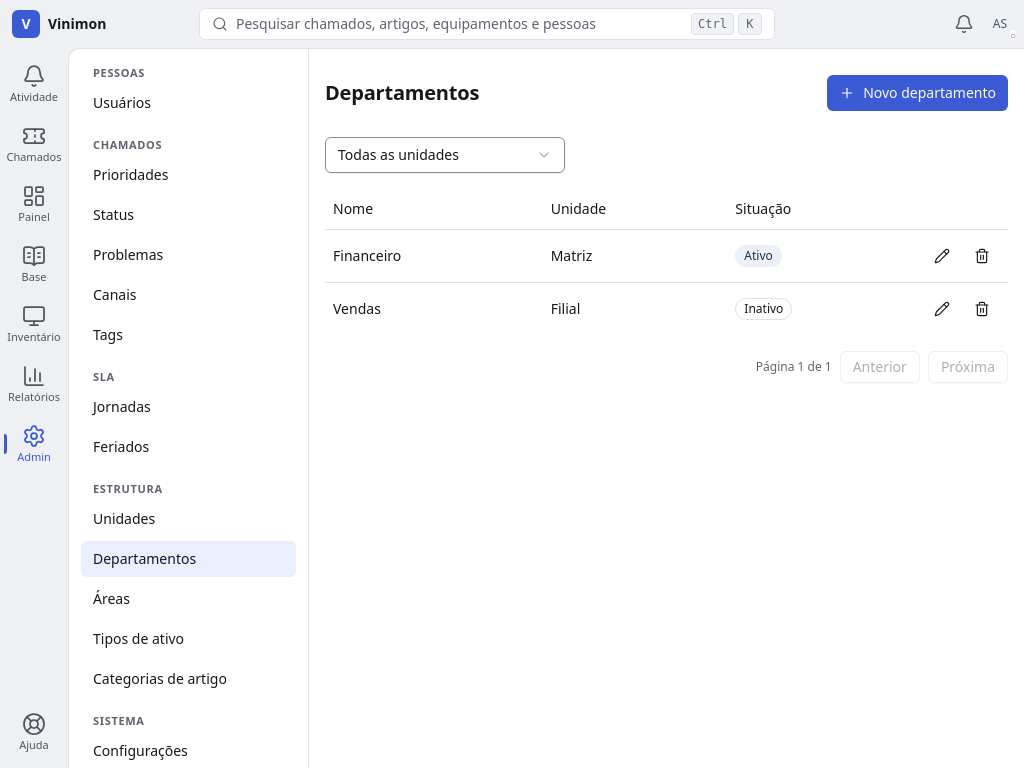
it: /admin/departamentos › excluir confirma e faz DELETE /departamentos/1
Click the button named "Excluir Financeiro": [982, 256] box x1=964 y1=238 x2=1000 y2=274
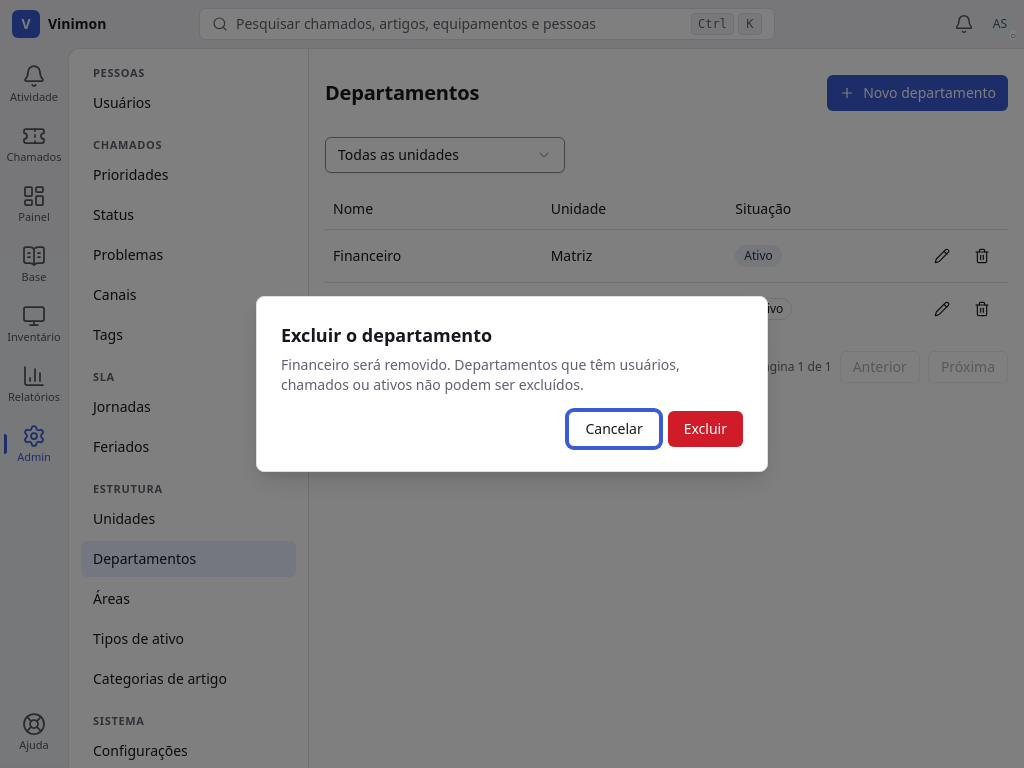
Click the button "Excluir": [705, 429] box x1=668 y1=411 x2=743 y2=447
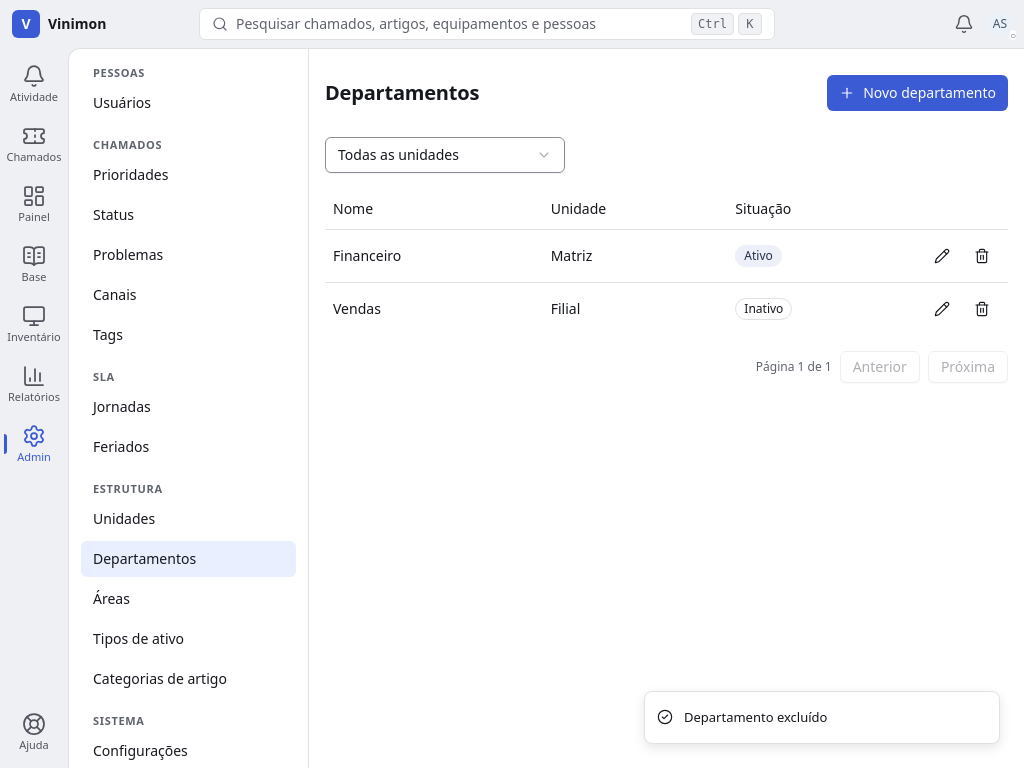
Check: the text "Departamento excluído" is shown, box x1=684 y1=708 x2=828 y2=727
